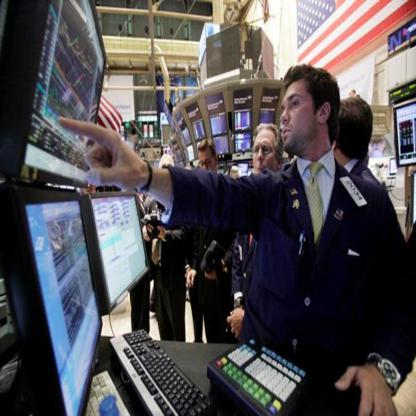face: (281, 82, 318, 152), (254, 130, 278, 180), (200, 151, 216, 180), (162, 160, 174, 182)
